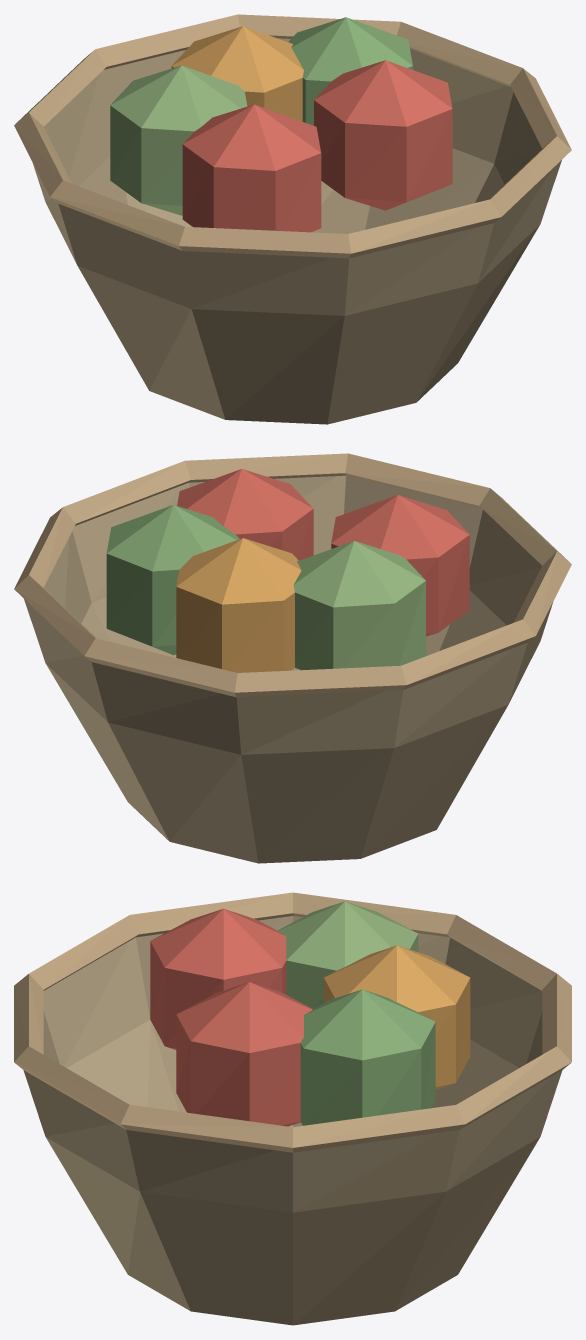
Rendered from basket_veg.glb.
3 renders of one model, top to bottom at view 1: azimuth 30°, elevation 25°; view 2: azimuth 150°, elevation 25°; view 3: azimuth 270°, elevation 25°, orthographic. The views are drawn at different scales.
Visible parts, largest first — view 1: basket_veg; view 2: basket_veg; view 3: basket_veg.
Boxes of the visible parts, box(x1,y1,x2,y2) form: basket_veg: box(14, 14, 571, 424); basket_veg: box(14, 453, 571, 863); basket_veg: box(14, 892, 571, 1325).
Bounding box in the file's own units: 0.676 × 0.39 × 0.6429.
